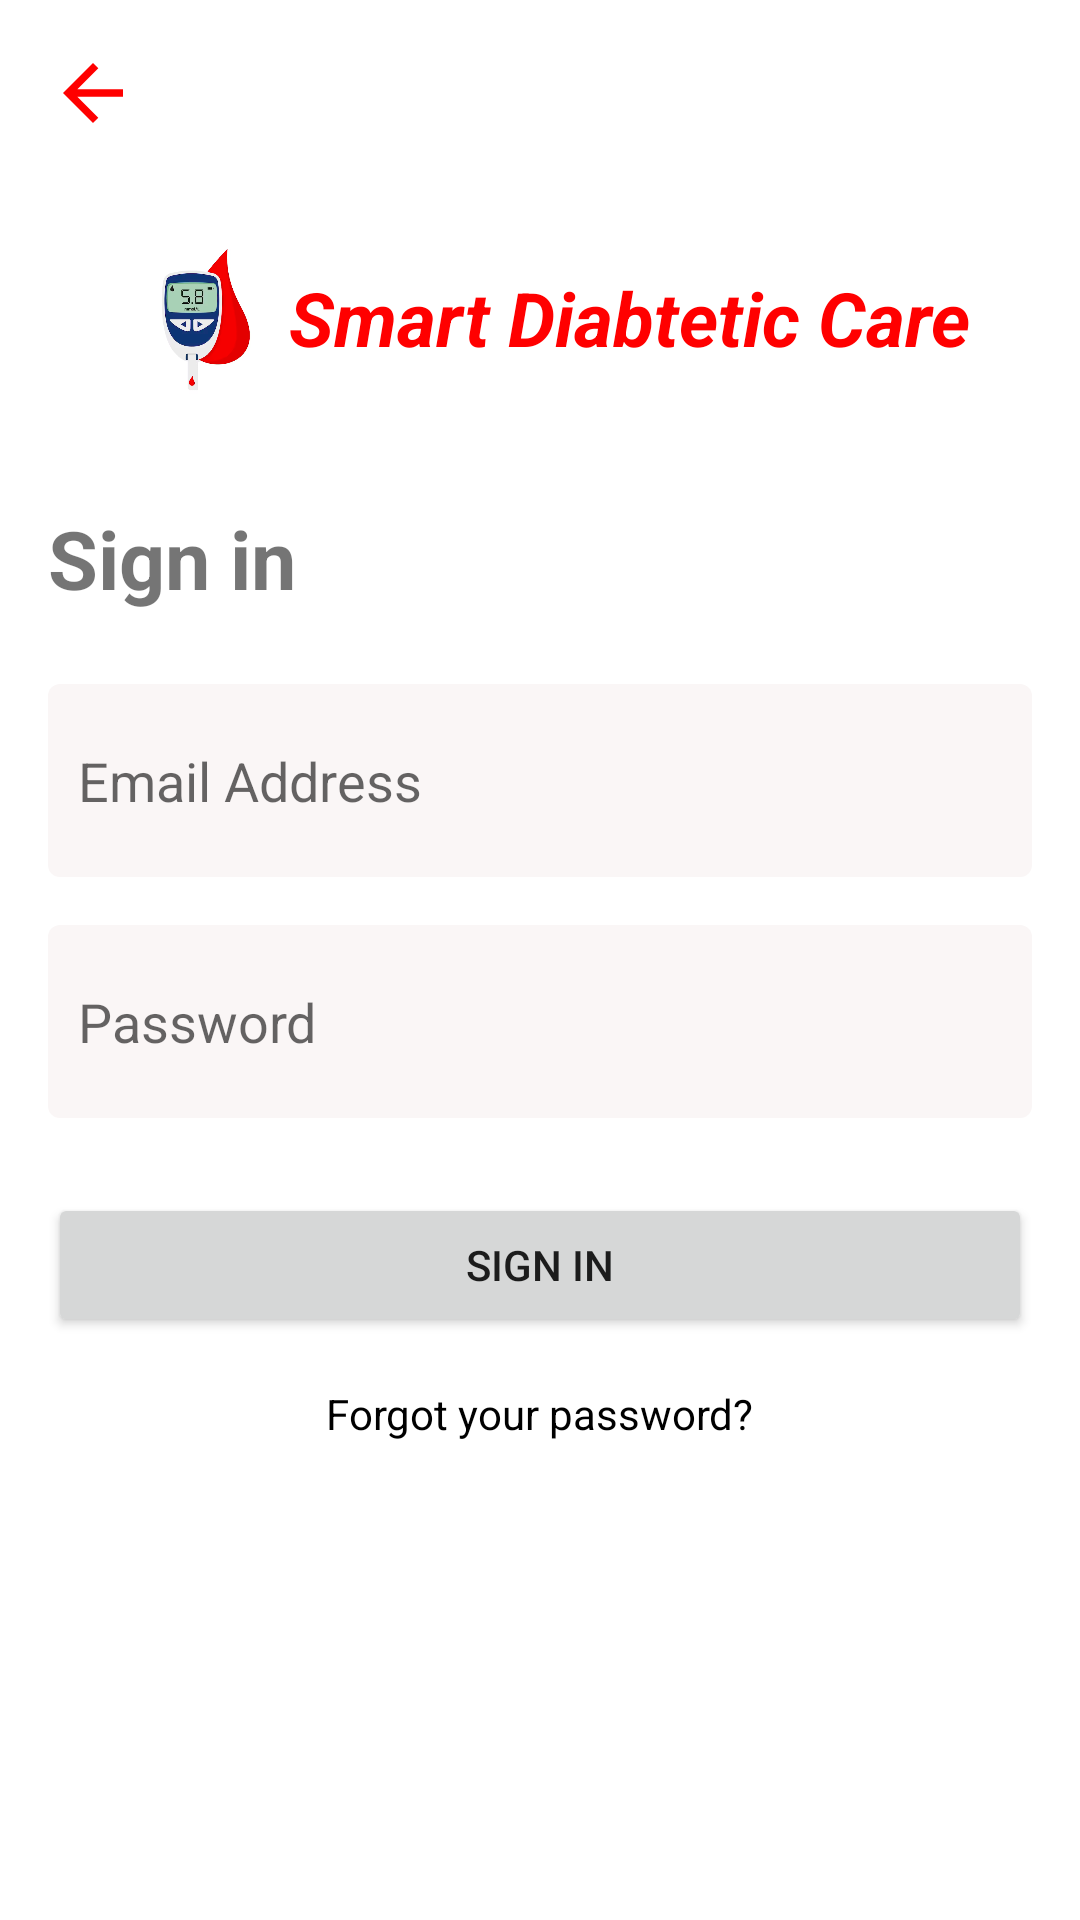

Screen size 1080w x 1920h. Icon name, then its box in pixels as (x1, y1, x2, y2):
Back: (63, 63, 123, 123)
